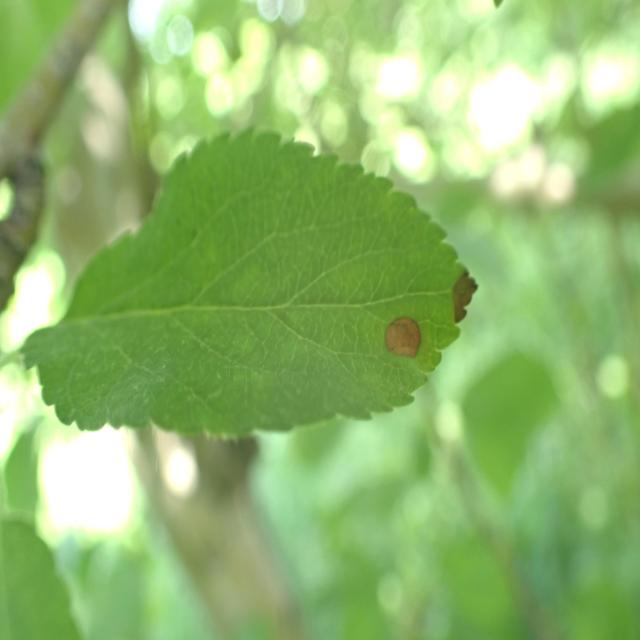Black Rot: (368, 295, 432, 383), (446, 256, 496, 342)
